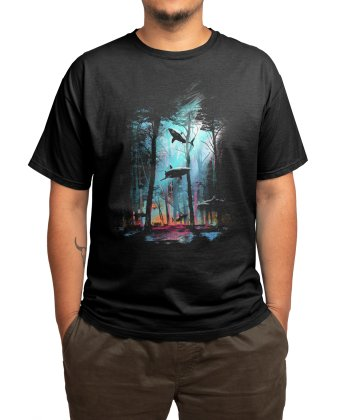design: (104, 76, 236, 245)
